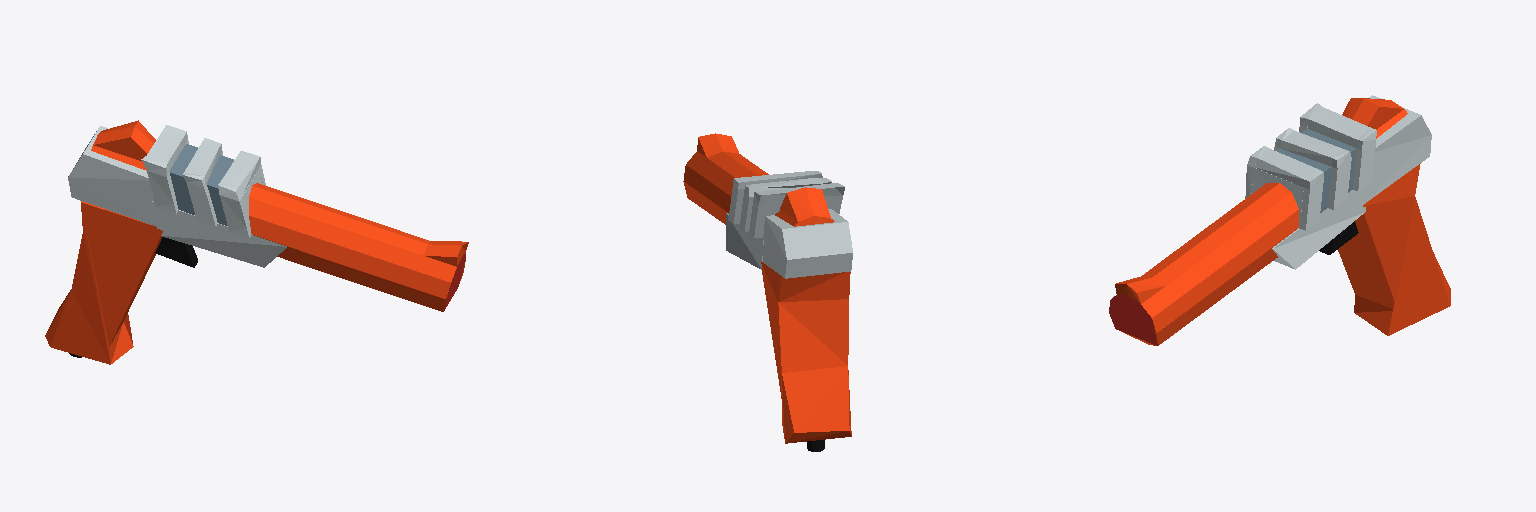
The picture shows the model from 3 angles: view 1: azimuth 30°, elevation 25°; view 2: azimuth 150°, elevation 25°; view 3: azimuth 270°, elevation 25°; orthographic projection.
Parts seen in each view (by area): view 1: group[number redacted]; view 2: group[number redacted]; view 3: group[number redacted].
Part boxes in pixels (left/top/right/bottom): group[number redacted]: left=45, top=120, right=468, bottom=364; group[number redacted]: left=683, top=133, right=852, bottom=451; group[number redacted]: left=1109, top=95, right=1450, bottom=345.
Bounding box in the file's own units: 0.1708 × 0.1323 × 0.1727.